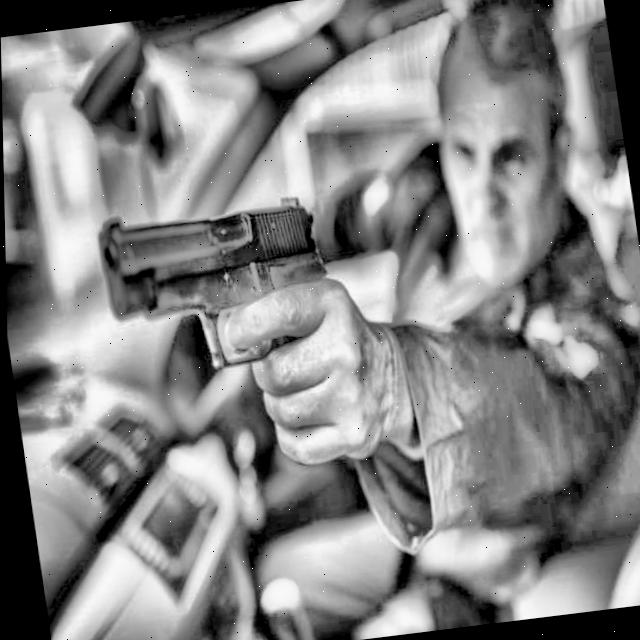pistol: (77, 171, 363, 461)
